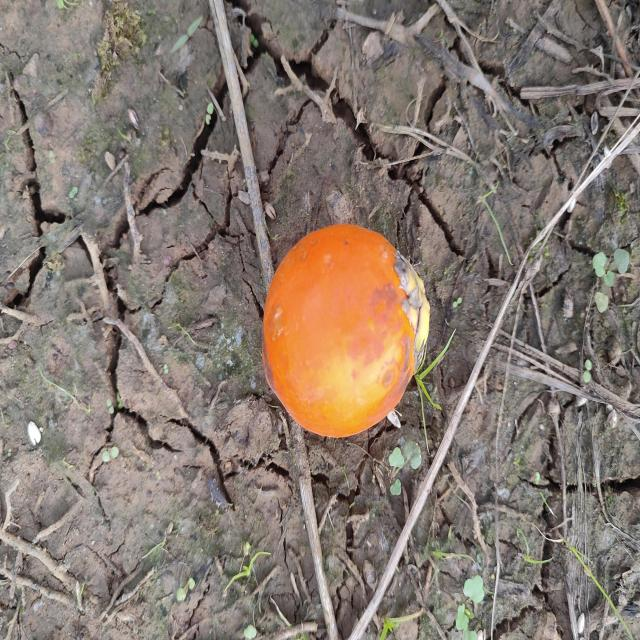good: (262, 224, 429, 441)
